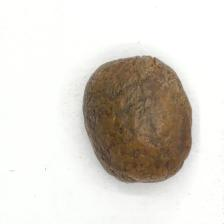NG: (93, 54, 181, 131)
